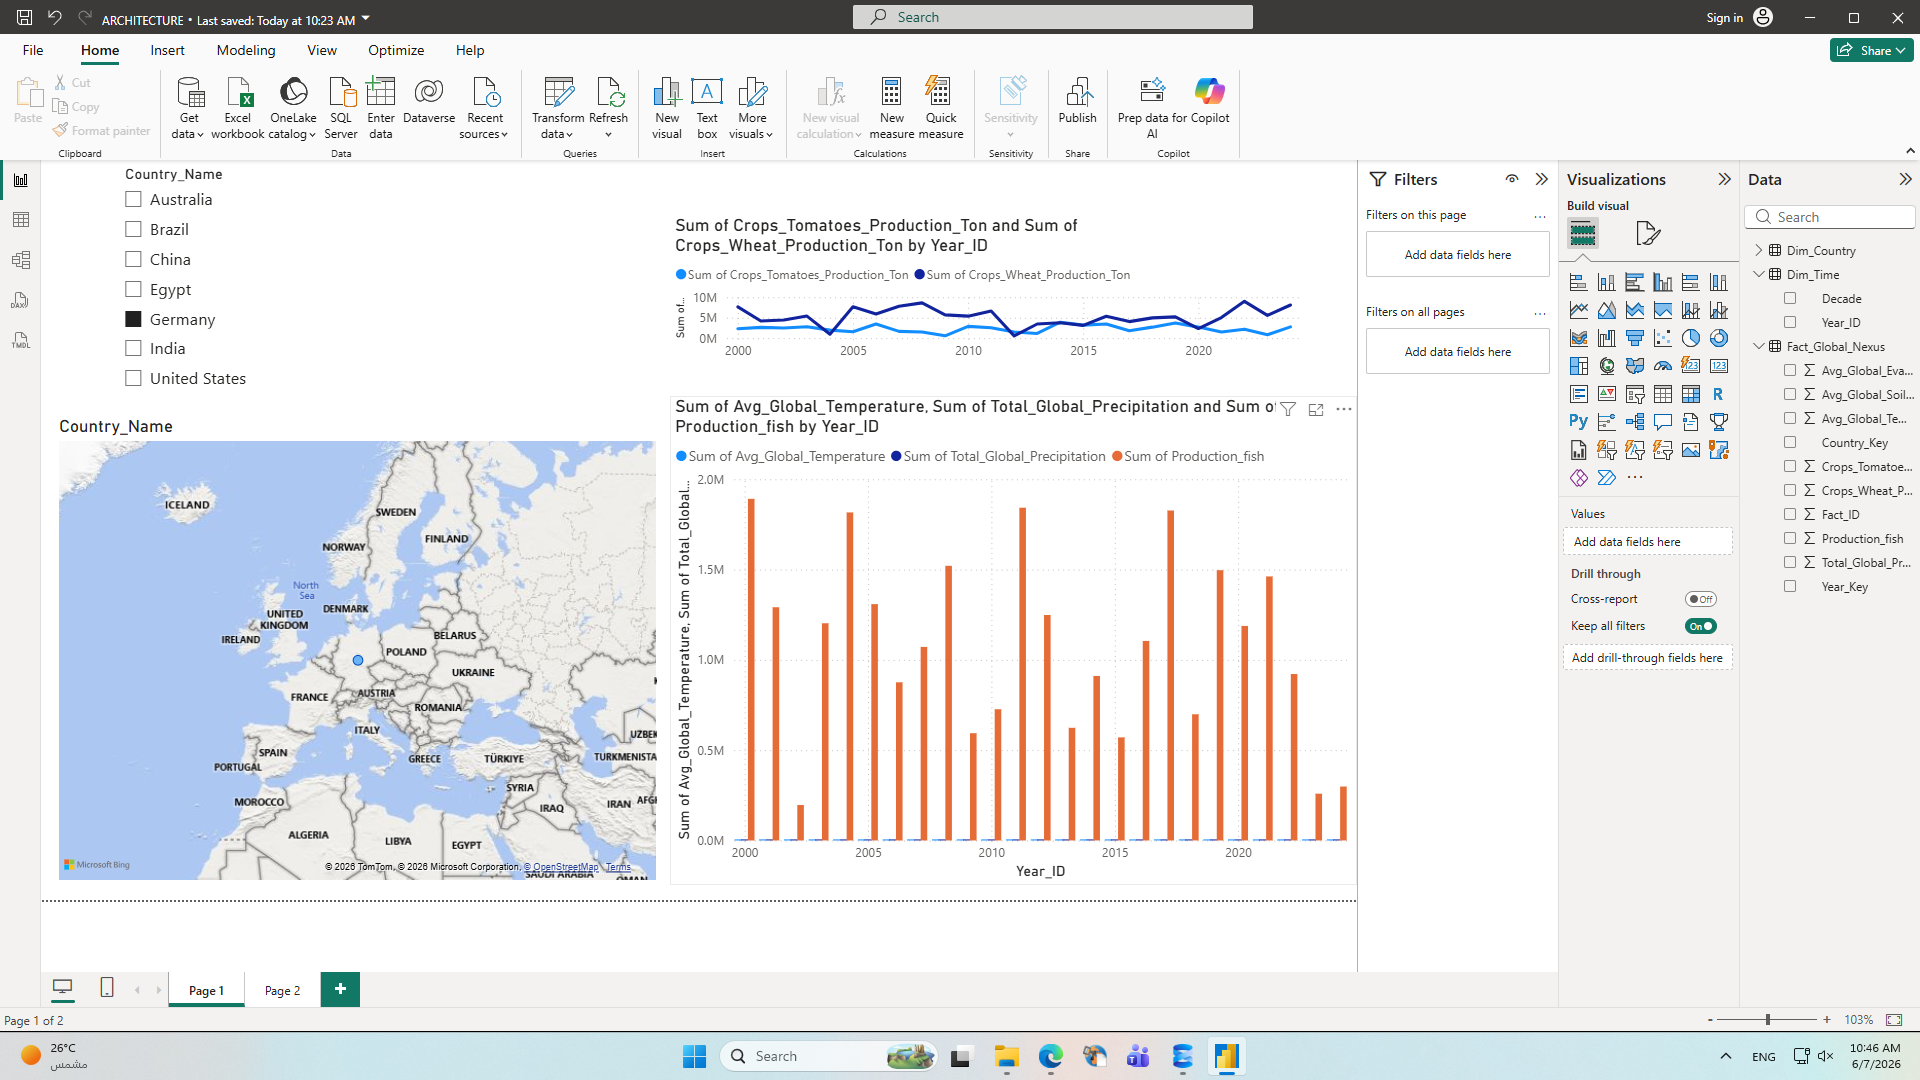

Layout of this report page (visuals, bound fields, positions):
{"tool":"powerbi","page":{"name":"Page 1","canvas":[1280,720],"ordinal":0},"visuals":[{"type":"slicer","fields":{"Values":["Dim_Country.Country_Name"]},"box":[69.1,0,280.1,280.1],"z":0},{"type":"lineChart","fields":{"Category":["Dim_Time.Year_ID"],"Y":["Sum(Fact_Global_Nexus.Crops_Tomatoes_Production_Ton)","Sum(Fact_Global_Nexus.Crops_Wheat_Production_Ton)"]},"box":[611.8,53.5,621.5,149.8],"z":1000},{"type":"map","fields":{"Category":["Dim_Country.Country_Name"]},"box":[12.6,249,591.4,456.2],"z":2000},{"type":"clusteredColumnChart","fields":{"Y":["Sum(Fact_Global_Nexus.Avg_Global_Temperature)","Sum(Fact_Global_Nexus.Total_Global_Precipitation)","Sum(Fact_Global_Nexus.Production_MT)"],"Category":["Dim_Time.Year_ID"]},"box":[611.8,229.5,668.2,475.6],"z":3000}]}

Visuals, with their boxes on the page's 1280x720 design canvas (x1, y1, x2, y2). These are canvas units, not pixel positions in the 1920x1080 screenshot, which may show the page scaled, cropped or inside an application window:
slicer - Dim_Country.Country_Name: {"left": 69, "top": 0, "right": 349, "bottom": 280}
lineChart - Dim_Time.Year_ID x Sum(Fact_Global_Nexus.Crops_Tomatoes_Production_Ton): {"left": 612, "top": 54, "right": 1233, "bottom": 203}
map - Dim_Country.Country_Name: {"left": 13, "top": 249, "right": 604, "bottom": 705}
clusteredColumnChart - Sum(Fact_Global_Nexus.Avg_Global_Temperature) x Sum(Fact_Global_Nexus.Total_Global_Precipitation): {"left": 612, "top": 230, "right": 1280, "bottom": 705}
